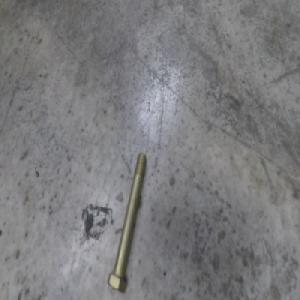Bolt: (107, 150, 146, 292)
